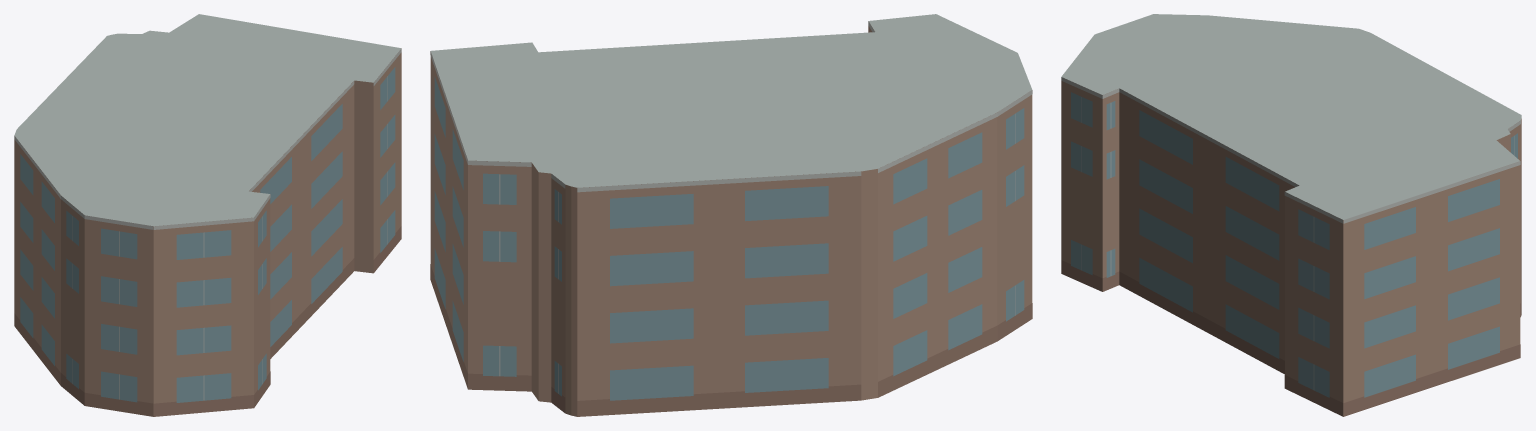
The model's file is survey-upis-32821744.glb.
3 renders of one model, left to right at view 1: azimuth 30°, elevation 25°; view 2: azimuth 150°, elevation 25°; view 3: azimuth 270°, elevation 25°, orthographic. The views are drawn at different scales.
Parts seen in each view (by area): view 1: survey-upis-32821744.tmp; view 2: survey-upis-32821744.tmp; view 3: survey-upis-32821744.tmp.
Part boxes in pixels (x1=…): survey-upis-32821744.tmp: x1=14, y1=14, x2=401, y2=416; survey-upis-32821744.tmp: x1=430, y1=14, x2=1032, y2=416; survey-upis-32821744.tmp: x1=1061, y1=14, x2=1521, y2=416.
Size of the model in its own units: 27.84 by 12.4 by 26.29.
